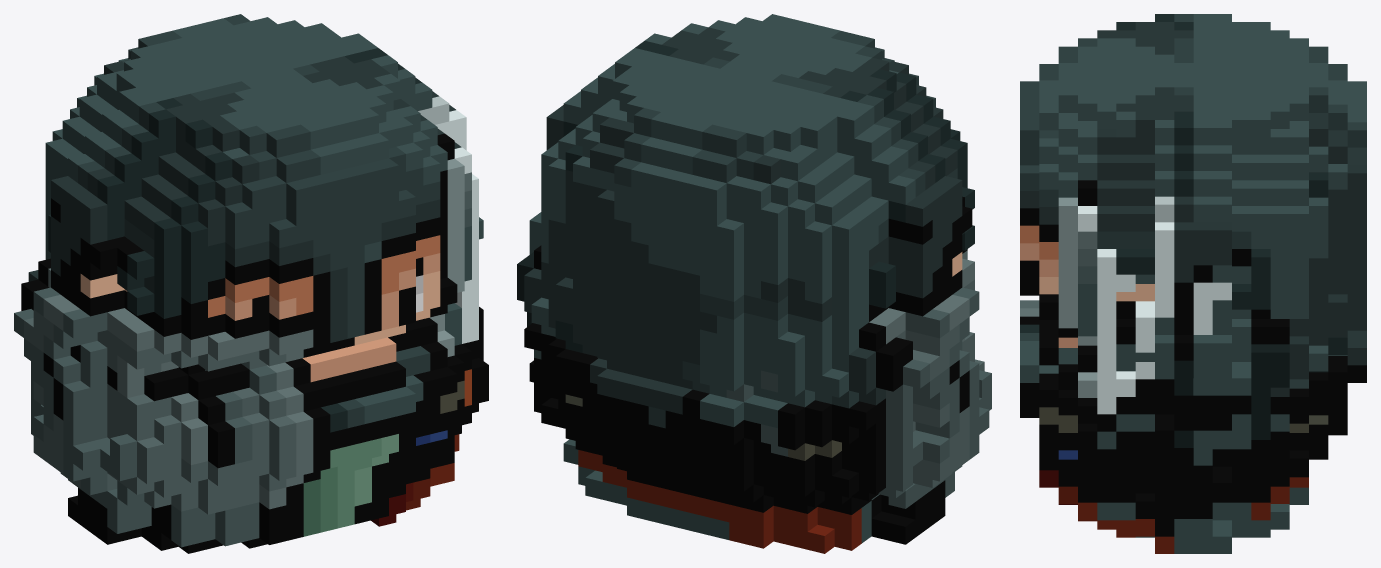
File: Icon_703_01.obj
The picture shows the model from 3 angles, left to right: view 1: azimuth 30°, elevation 25°; view 2: azimuth 150°, elevation 25°; view 3: azimuth 270°, elevation 25°; orthographic projection. The views are drawn at different scales.
Size of the model in its own units: 2.4 by 2.3 by 1.8.
Materials: 1 (1 with a texture image).
